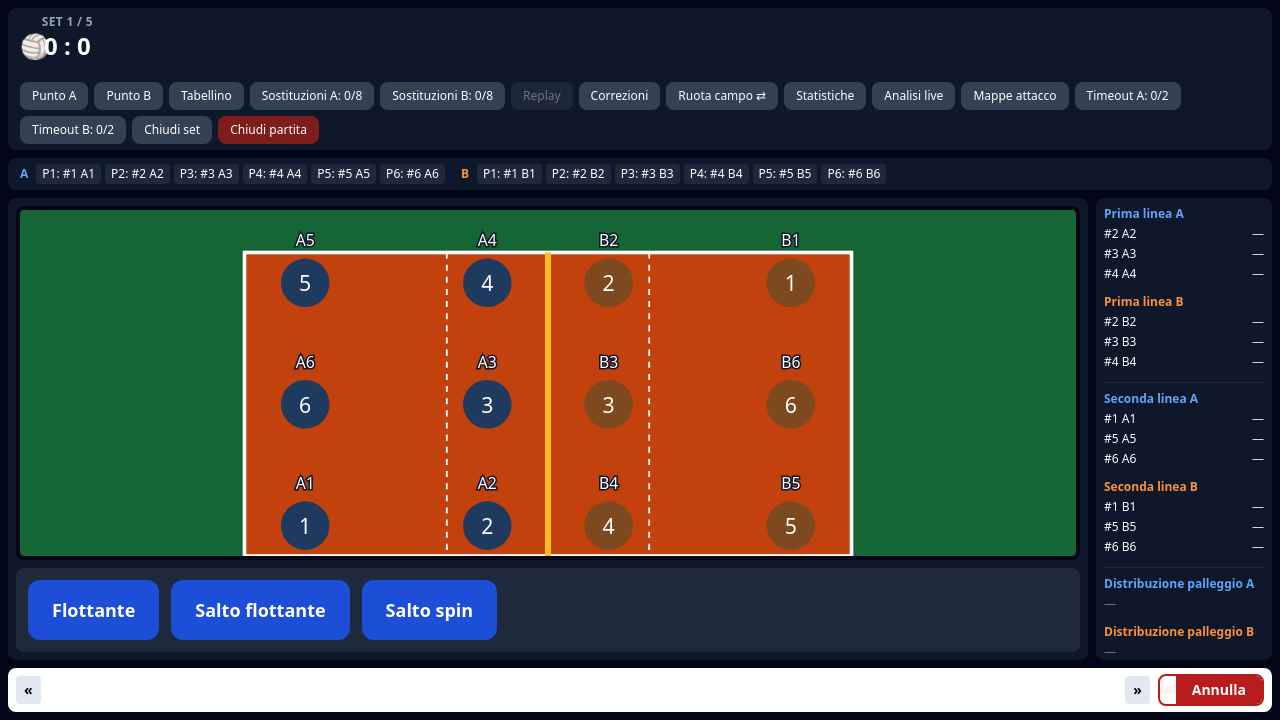
Scenario: LiveScoutingScreen › mostra punteggio 0:0, la formazione titolare e aggiorna il punteggio con la chiusura manuale
Expected: the element with test id "punteggio" shows "0 : 0", [20,29,91,62]
Expected: the element with test id "rotazione-a" shows "P1: #1 A1", [20,164,445,184]
Click the button "Punto A".
click(54, 96)  # box [20,82,88,110]
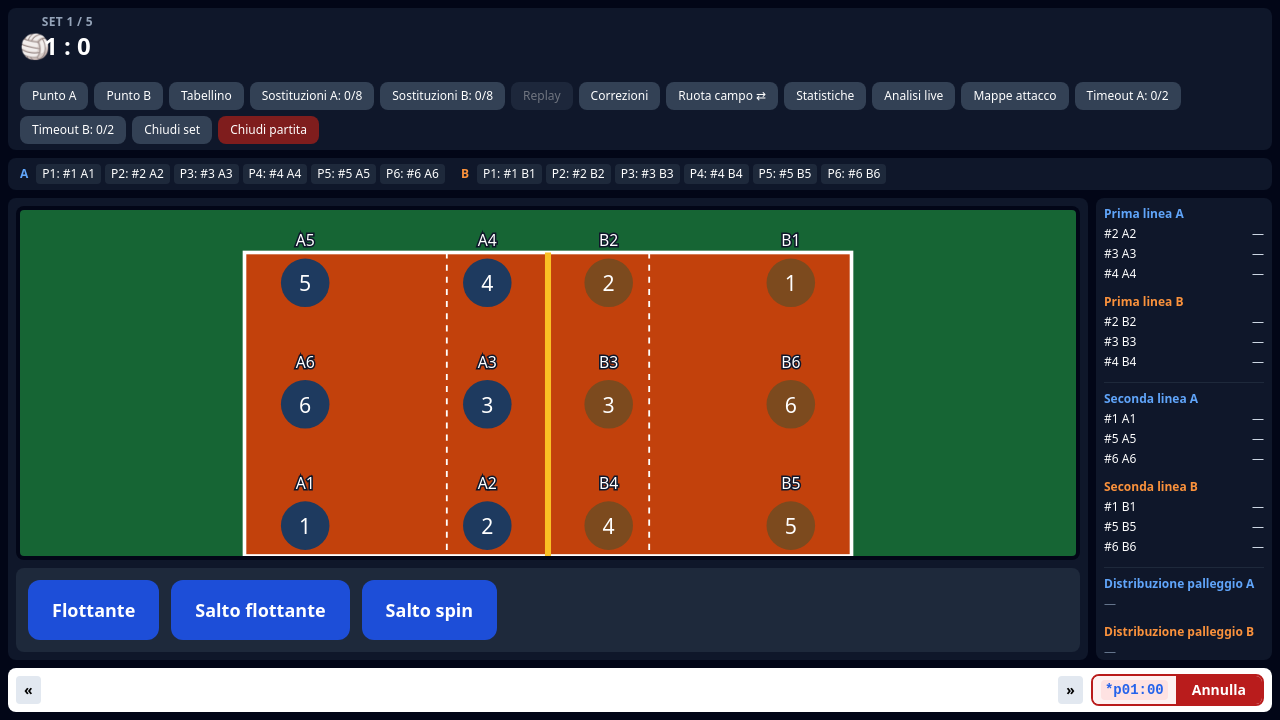
Expected: the element with test id "punteggio" shows "1 : 0", [20,29,91,62]
